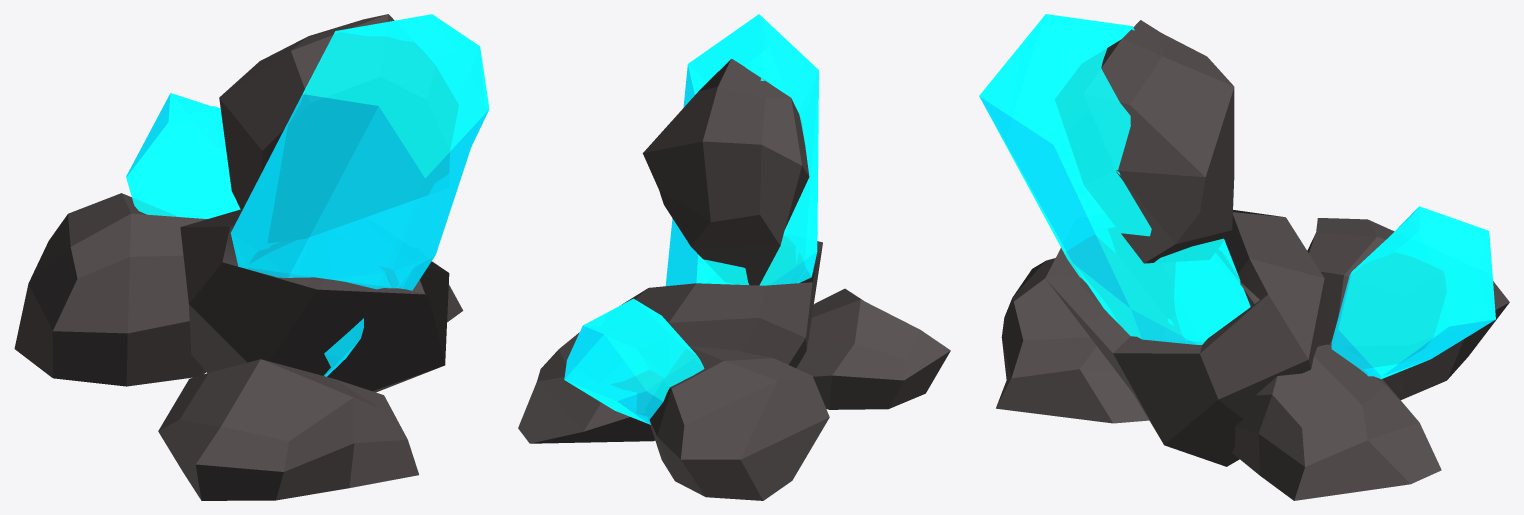
Rendered from Mdl_Ore3.fbx.
The picture shows the model from 3 angles, left to right: view 1: azimuth 30°, elevation 25°; view 2: azimuth 150°, elevation 25°; view 3: azimuth 270°, elevation 25°; orthographic projection. The views are drawn at different scales.
Parts seen in each view (by area): view 1: mena003; view 2: mena003; view 3: mena003.
Boxes of the visible parts, x1=… form: mena003: x1=14, y1=14, x2=489, y2=500; mena003: x1=518, y1=14, x2=950, y2=500; mena003: x1=979, y1=14, x2=1509, y2=500.
Bounding box in the file's own units: 0.6848 × 0.7428 × 0.8142.
